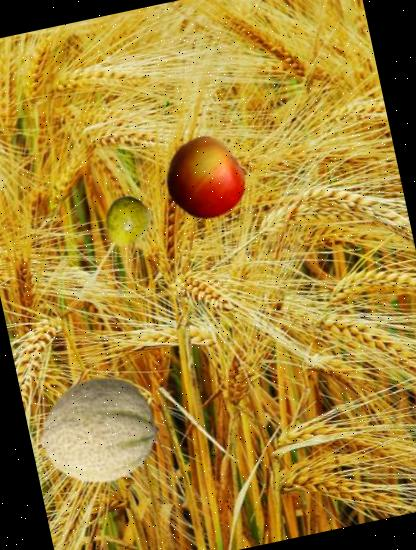Apple: (156, 126, 258, 227)
Cantaloupe: (29, 360, 169, 500)
Guava: (97, 192, 157, 252)
